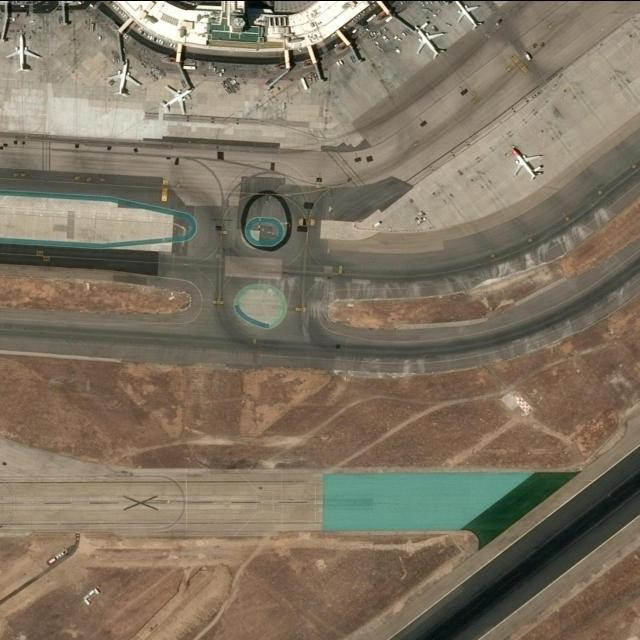Aircraft: (7, 30, 43, 74), (507, 144, 544, 178), (110, 60, 144, 96), (414, 21, 446, 58), (160, 82, 196, 114), (455, 0, 485, 29)
